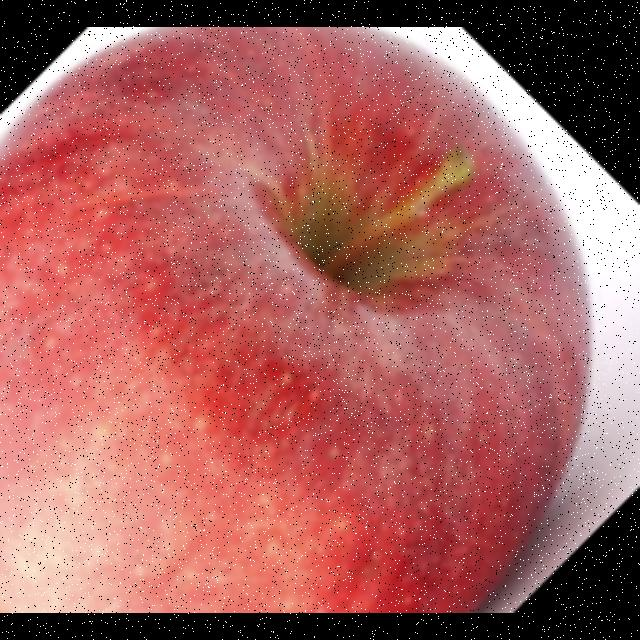Apel Segar: (0, 27, 600, 613)
